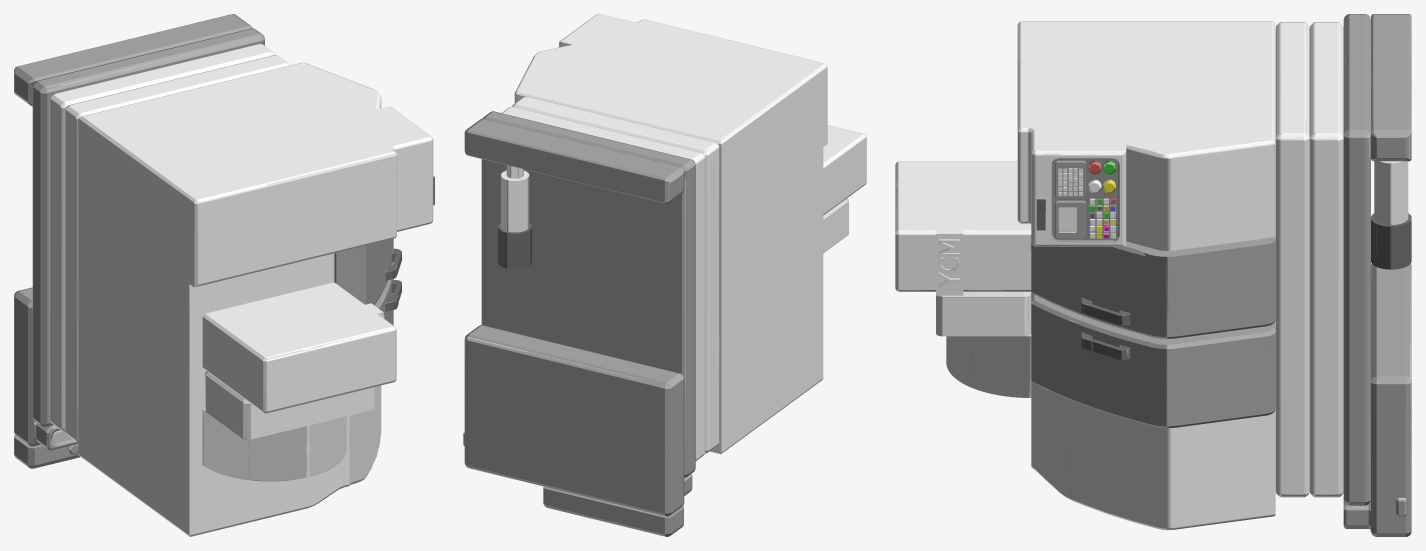
The model's file is YCM-FV102A.obj.
The picture shows the model from 3 angles, left to right: view 1: azimuth 30°, elevation 25°; view 2: azimuth 150°, elevation 25°; view 3: azimuth 270°, elevation 25°; orthographic projection. The views are drawn at different scales.
Visible parts, largest first — view 1: Solid1; view 2: Solid1; view 3: Solid1.
Part boxes in pixels (x1,y1,x2,y2): Solid1: [14, 14, 434, 536]; Solid1: [463, 14, 866, 536]; Solid1: [895, 14, 1411, 536].
Bounding box in the file's own units: 2.5 × 3.5 × 3.8.
